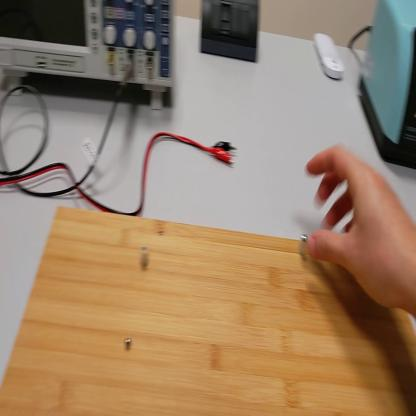hand: (306, 144, 413, 311)
oscilloscope: (2, 2, 177, 116)
welder station: (358, 3, 416, 170)
working area: (2, 206, 416, 414)
